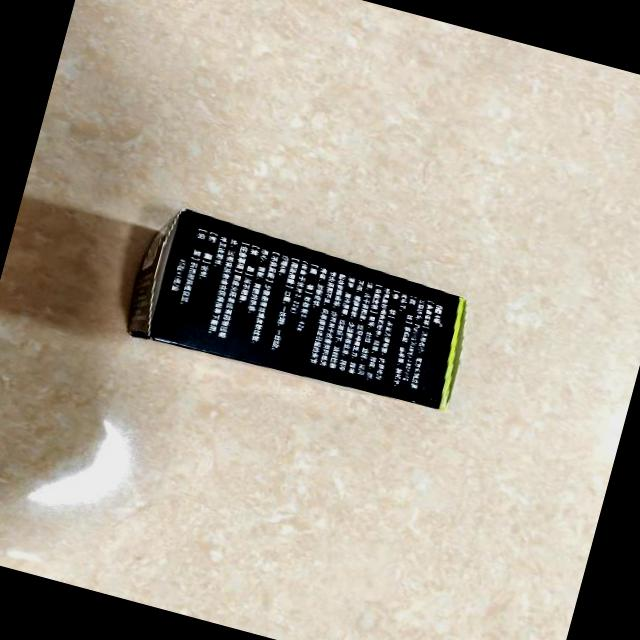box: (122, 201, 484, 420)
